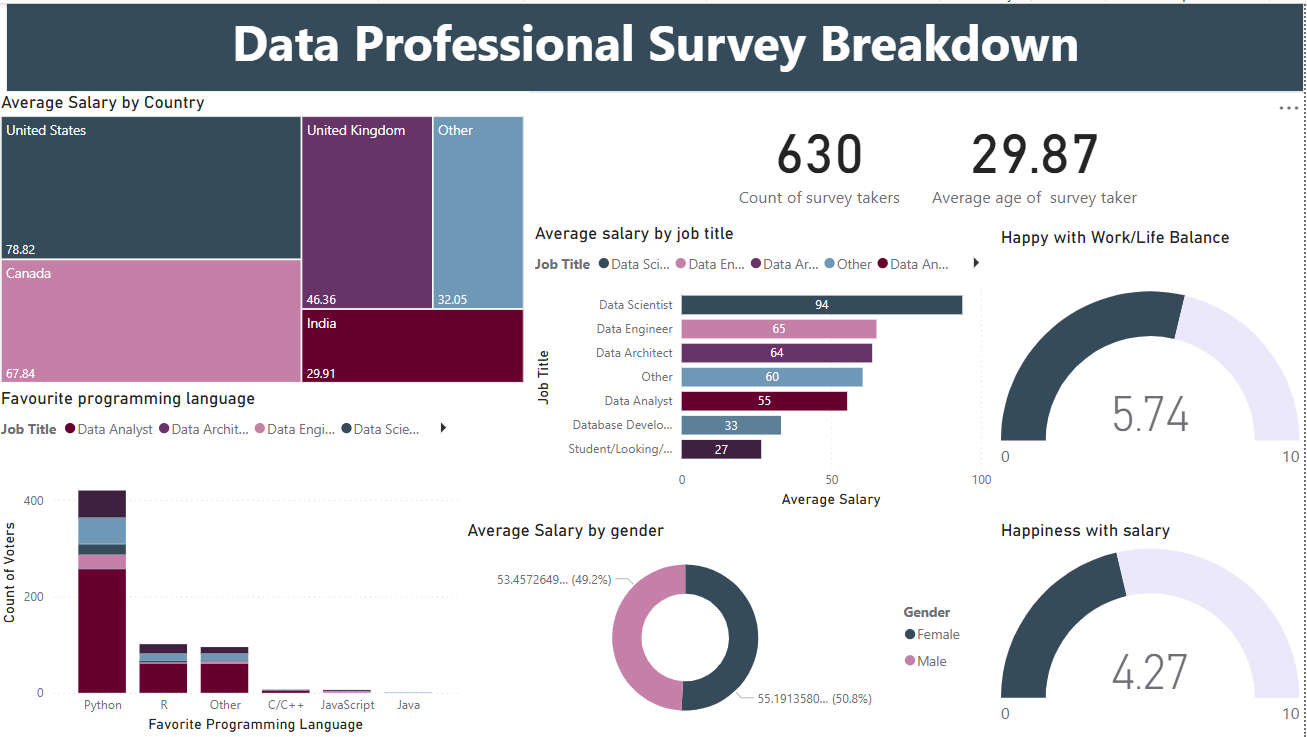

The page's visual inventory and layout, read from the dashboard file:
{"tool":"powerbi","page":{"name":"Page 1","canvas":[1280,720],"ordinal":0},"visuals":[{"type":"textbox","box":[9.2,0,1271.1,87.4],"z":0},{"type":"card","fields":{"Values":["Count(Data Professional Survey.Unique ID)"]},"box":[708.6,88.1,195.1,126],"z":1000},{"type":"card","fields":{"Values":["Avg(Data Professional Survey.Q10 - Current Age)"]},"box":[903.6,88.1,224.9,126],"z":2000},{"type":"barChart","title":"Average salary by job title","fields":{"Category":["Data Professional Survey.Q1 - Which Title Best Fits your Current Role?.1"],"Y":["Avg(Data Professional Survey.Average Salery)"],"Series":["Data Professional Survey.Q1 - Which Title Best Fits your Current Role?.1"]},"box":[521.6,215.4,456.6,283.2],"z":3000},{"type":"barChart","title":"Favourite programming language","fields":{"Category":["Data Professional Survey.Q5 - Favorite Programming Language.1"],"Y":["CountNonNull(Data Professional Survey.Unique ID)"],"Series":["Data Professional Survey.Q1 - Which Title Best Fits your Current Role?.1"]},"box":[0,377.2,456.9,341.9],"z":4000},{"type":"treemap","title":"Average Salary by Country","fields":{"Group":["Data Professional Survey.Q11 - Which Country do you live in?.1"],"Values":["Avg(Data Professional Survey.Average Salery)"]},"box":[0,87.4,521.3,289.8],"z":5000},{"type":"gauge","title":"Happy with Work/Life Balance","fields":{"Y":["Avg(Data Professional Survey.Q6 - How Happy are you in your Current Position with the following? (Work/Life Balance))"],"MaxValue":["Max(Data Professional Survey.Q6 - How Happy are you in your Current Position with the following? (Work/Life Balance))1"],"MinValue":["Min(Data Professional Survey.Q6 - How Happy are you in your Current Position with the following? (Work/Life Balance))"]},"box":[978.2,219.3,302.1,285.2],"z":6000},{"type":"gauge","title":"Happiness with salary","fields":{"Y":["Avg(Data Professional Survey.Q6 - How Happy are you in your Current Position with the following? (Salary))"],"MinValue":["Min(Data Professional Survey.Q6 - How Happy are you in your Current Position with the following? (Salary))"],"MaxValue":["Max(Data Professional Survey.Q6 - How Happy are you in your Current Position with the following? (Salary))"]},"box":[978.2,504.5,302.1,216.2],"z":7000},{"type":"donutChart","title":"Average Salary by gender","fields":{"Category":["Data Professional Survey.Q9 - Male/Female?"],"Y":["Avg(Data Professional Survey.Average Salery)"]},"box":[456.6,505.3,502.6,212.7],"z":8000}]}

Visuals, with their boxes in screenshot pixels (x1, y1, x2, y2), scaled from the page's 1280x720 canvas onto the 1307x737 screenshot:
textbox: bbox(9, 0, 1306, 89)
card - Count(Data Professional Survey.Unique ID): bbox(724, 90, 923, 219)
card - Avg(Data Professional Survey.Q10 - Current Age): bbox(923, 90, 1152, 219)
"Average salary by job title" barChart: bbox(533, 220, 999, 510)
"Favourite programming language" barChart: bbox(0, 386, 467, 736)
"Average Salary by Country" treemap: bbox(0, 89, 532, 386)
"Happy with Work/Life Balance" gauge: bbox(999, 224, 1306, 516)
"Happiness with salary" gauge: bbox(999, 516, 1306, 736)
"Average Salary by gender" donutChart: bbox(466, 517, 979, 735)
